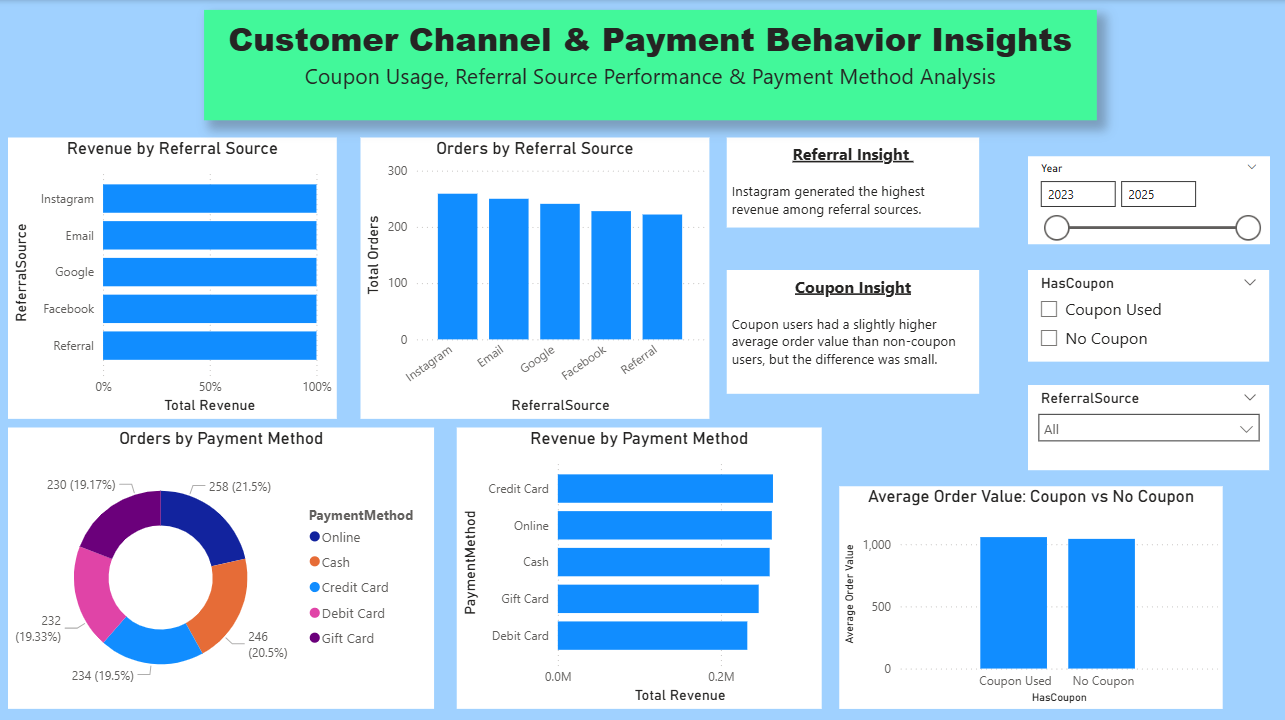

What the dashboard file says about the page in this screenshot:
{"tool":"powerbi","page":{"name":"Coupon, Referral & Payment Insights","canvas":[1280,720],"ordinal":2},"visuals":[{"type":"hundredPercentStackedBarChart","title":"Revenue by Referral Source","fields":{"Category":["Orders.ReferralSource"],"Y":["Orders.Total Revenue"]},"box":[10,136.8,327.2,279.9],"z":0},{"type":"columnChart","title":"Orders by Referral Source","fields":{"Category":["Orders.ReferralSource"],"Y":["Orders.Total Orders"]},"box":[360.7,136.8,347.1,279.9],"z":1000},{"type":"clusteredColumnChart","title":"Average Order Value: Coupon vs No Coupon","fields":{"Category":["Orders.HasCoupon"],"Y":["Orders.Average Order Value"]},"box":[837.2,483.9,381.9,221.4],"z":2000},{"type":"clusteredBarChart","title":"Revenue by Payment Method","fields":{"Category":["Orders.PaymentMethod"],"Y":["Orders.Total Revenue"]},"box":[456.5,425.4,363.2,279.9],"z":3000},{"type":"donutChart","title":"Orders by Payment Method","fields":{"Category":["Orders.PaymentMethod"],"Y":["Orders.Total Orders"]},"box":[10,425.4,424.2,279.9],"z":4000},{"type":"slicer","fields":{"Values":["Orders.Year"]},"box":[1025,155.5,240.1,87.1],"z":5000},{"type":"slicer","fields":{"Values":["Orders.HasCoupon"]},"box":[1025,268.7,240.1,90.8],"z":6000},{"type":"slicer","fields":{"Values":["Orders.ReferralSource"]},"box":[1025,383.1,240.1,84.6],"z":7000},{"type":"textbox","box":[725.2,268.7,251.3,123.2],"z":8000},{"type":"textbox","box":[725.2,136.8,251.3,89.6],"z":9000},{"type":"textbox","box":[205.3,10,888.2,109.5],"z":10000}]}

Visuals, with their boxes in screenshot pixels (x1, y1, x2, y2), scaled from the page's 1280x720 canvas onto the 1285x720 screenshot:
"Revenue by Referral Source" hundredPercentStackedBarChart: (x1=10, y1=137, x2=339, y2=417)
"Orders by Referral Source" columnChart: (x1=362, y1=137, x2=711, y2=417)
"Average Order Value: Coupon vs No Coupon" clusteredColumnChart: (x1=840, y1=484, x2=1224, y2=705)
"Revenue by Payment Method" clusteredBarChart: (x1=458, y1=425, x2=823, y2=705)
"Orders by Payment Method" donutChart: (x1=10, y1=425, x2=436, y2=705)
slicer - Orders.Year: (x1=1029, y1=156, x2=1270, y2=243)
slicer - Orders.HasCoupon: (x1=1029, y1=269, x2=1270, y2=360)
slicer - Orders.ReferralSource: (x1=1029, y1=383, x2=1270, y2=468)
textbox: (x1=728, y1=269, x2=980, y2=392)
textbox: (x1=728, y1=137, x2=980, y2=226)
textbox: (x1=206, y1=10, x2=1098, y2=120)
